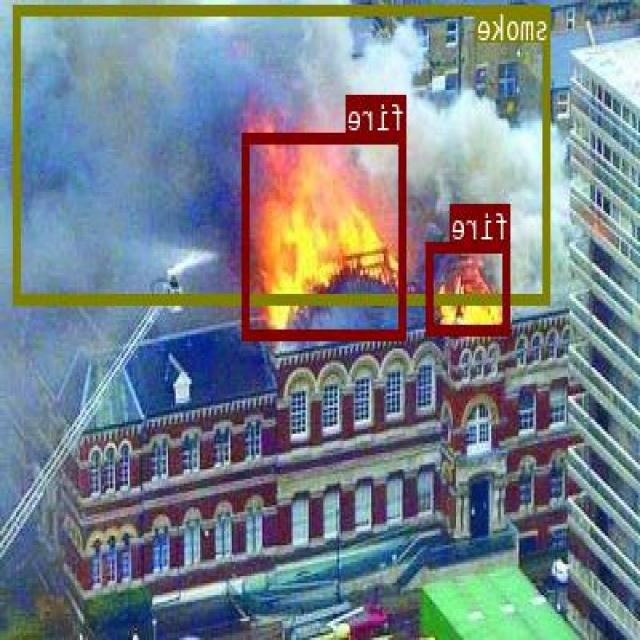fire: (244, 132, 407, 337), (427, 240, 512, 334)
smoke: (15, 3, 552, 302)
